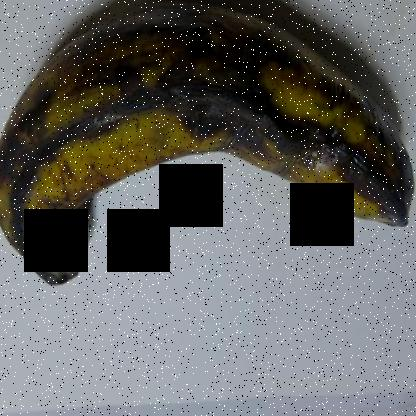overripe: (1, 1, 415, 310)
